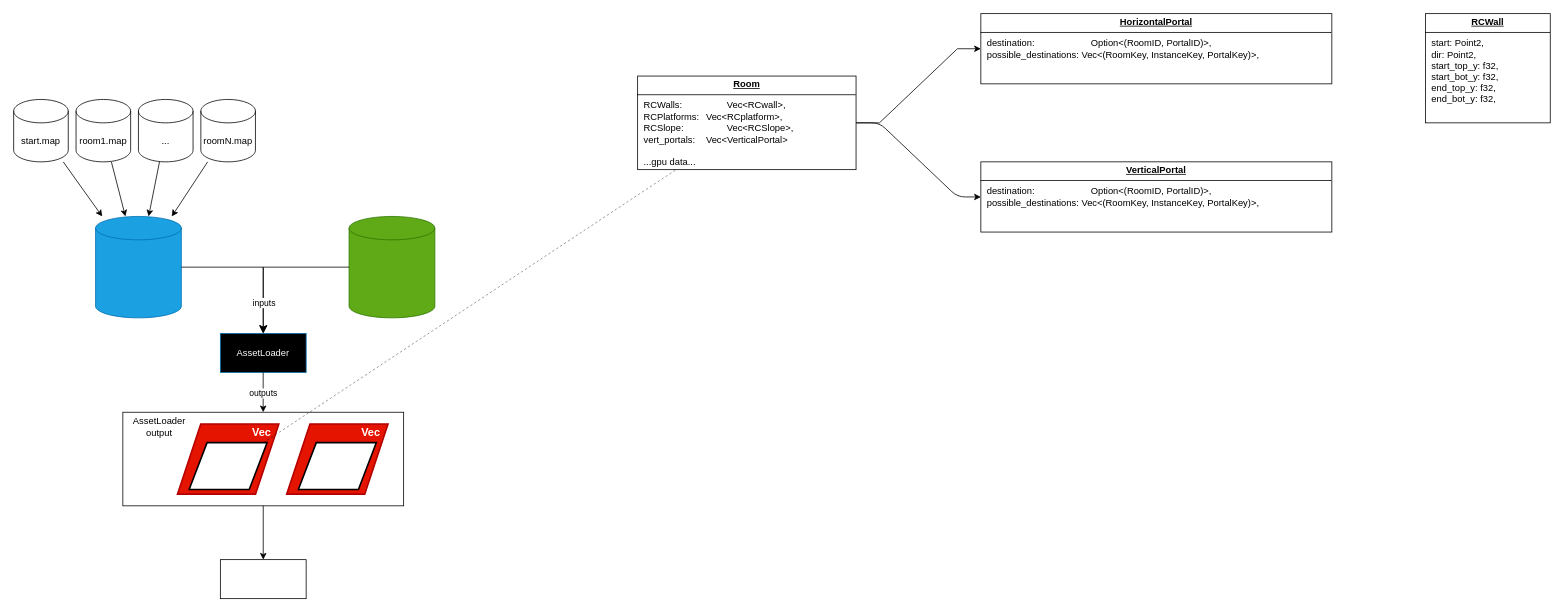
Some shapes in this 1564 by 612 pixel diagram are drawn without their labels. Each missing label, with the centre of its shape:
Room: (x=228, y=465)
Room data files: (x=138, y=267)
Texture: (x=337, y=465)
Textures: (x=391, y=267)
World: (x=263, y=579)
